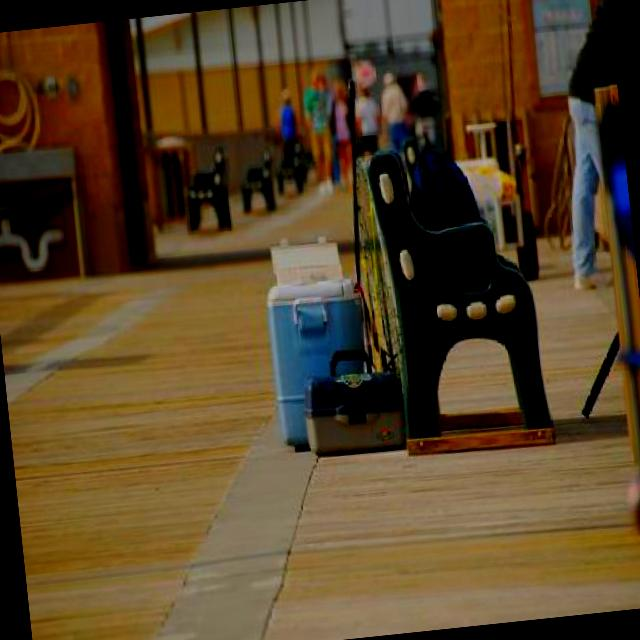Person: (538, 0, 638, 299), (296, 68, 338, 192), (266, 83, 305, 193), (374, 65, 412, 152), (349, 77, 384, 165), (328, 78, 356, 188), (405, 66, 438, 148)
